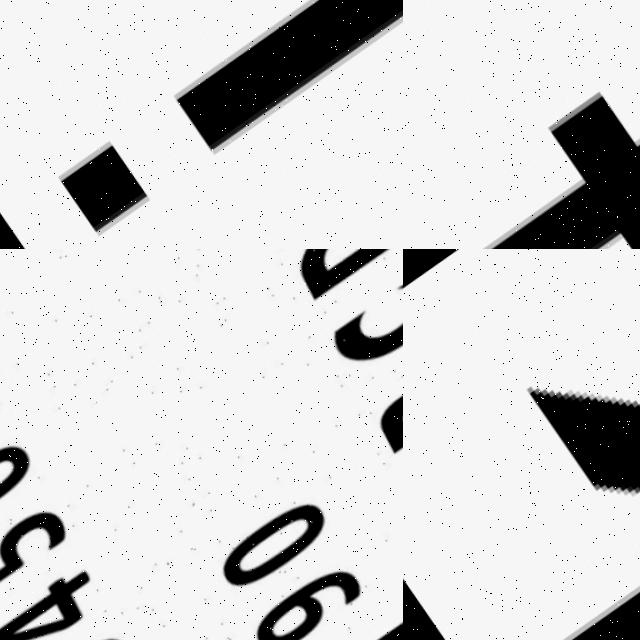0: (170, 475, 350, 640)
4: (0, 543, 120, 640)
5: (0, 468, 101, 640)
6: (0, 400, 76, 578)
7: (0, 332, 47, 514)
9: (203, 536, 390, 640)
I: (15, 0, 403, 249)
K: (403, 249, 640, 640)
T: (410, 0, 640, 249)
